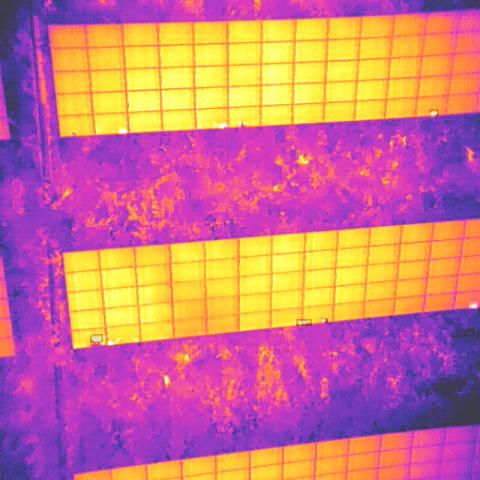fault: (90, 334, 103, 343), (296, 319, 312, 326), (218, 122, 229, 130), (118, 127, 127, 135), (429, 109, 439, 116), (469, 302, 478, 309), (321, 318, 328, 323), (107, 340, 114, 345)
